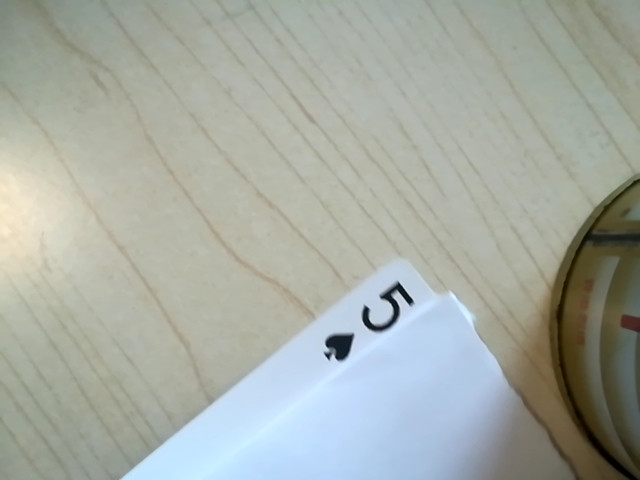ht 5: (308, 275, 433, 366)
